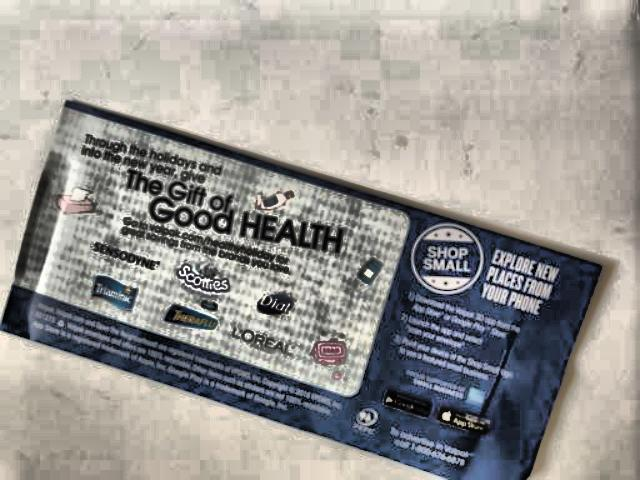Paper: (0, 100, 605, 480)
